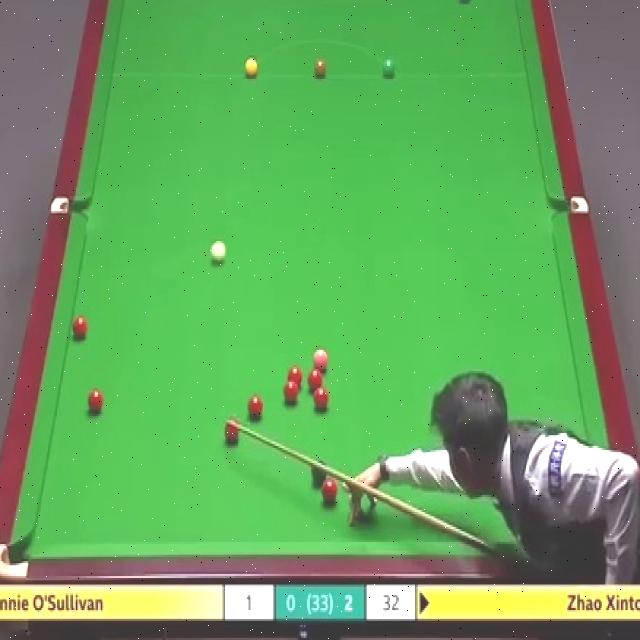black-ball: (310, 458, 328, 489)
blue-ball: (456, 0, 472, 6)
brown-ball: (314, 58, 328, 80)
green-ball: (382, 58, 396, 80)
pink-ball: (310, 347, 329, 372)
red-ball: (84, 385, 104, 417), (223, 419, 242, 448), (320, 480, 339, 506), (282, 380, 300, 406), (247, 394, 264, 419), (71, 314, 87, 340), (286, 366, 303, 388), (314, 386, 329, 410), (307, 370, 323, 390)
white-ball: (208, 238, 229, 269)
yellow-ball: (244, 57, 258, 79)
